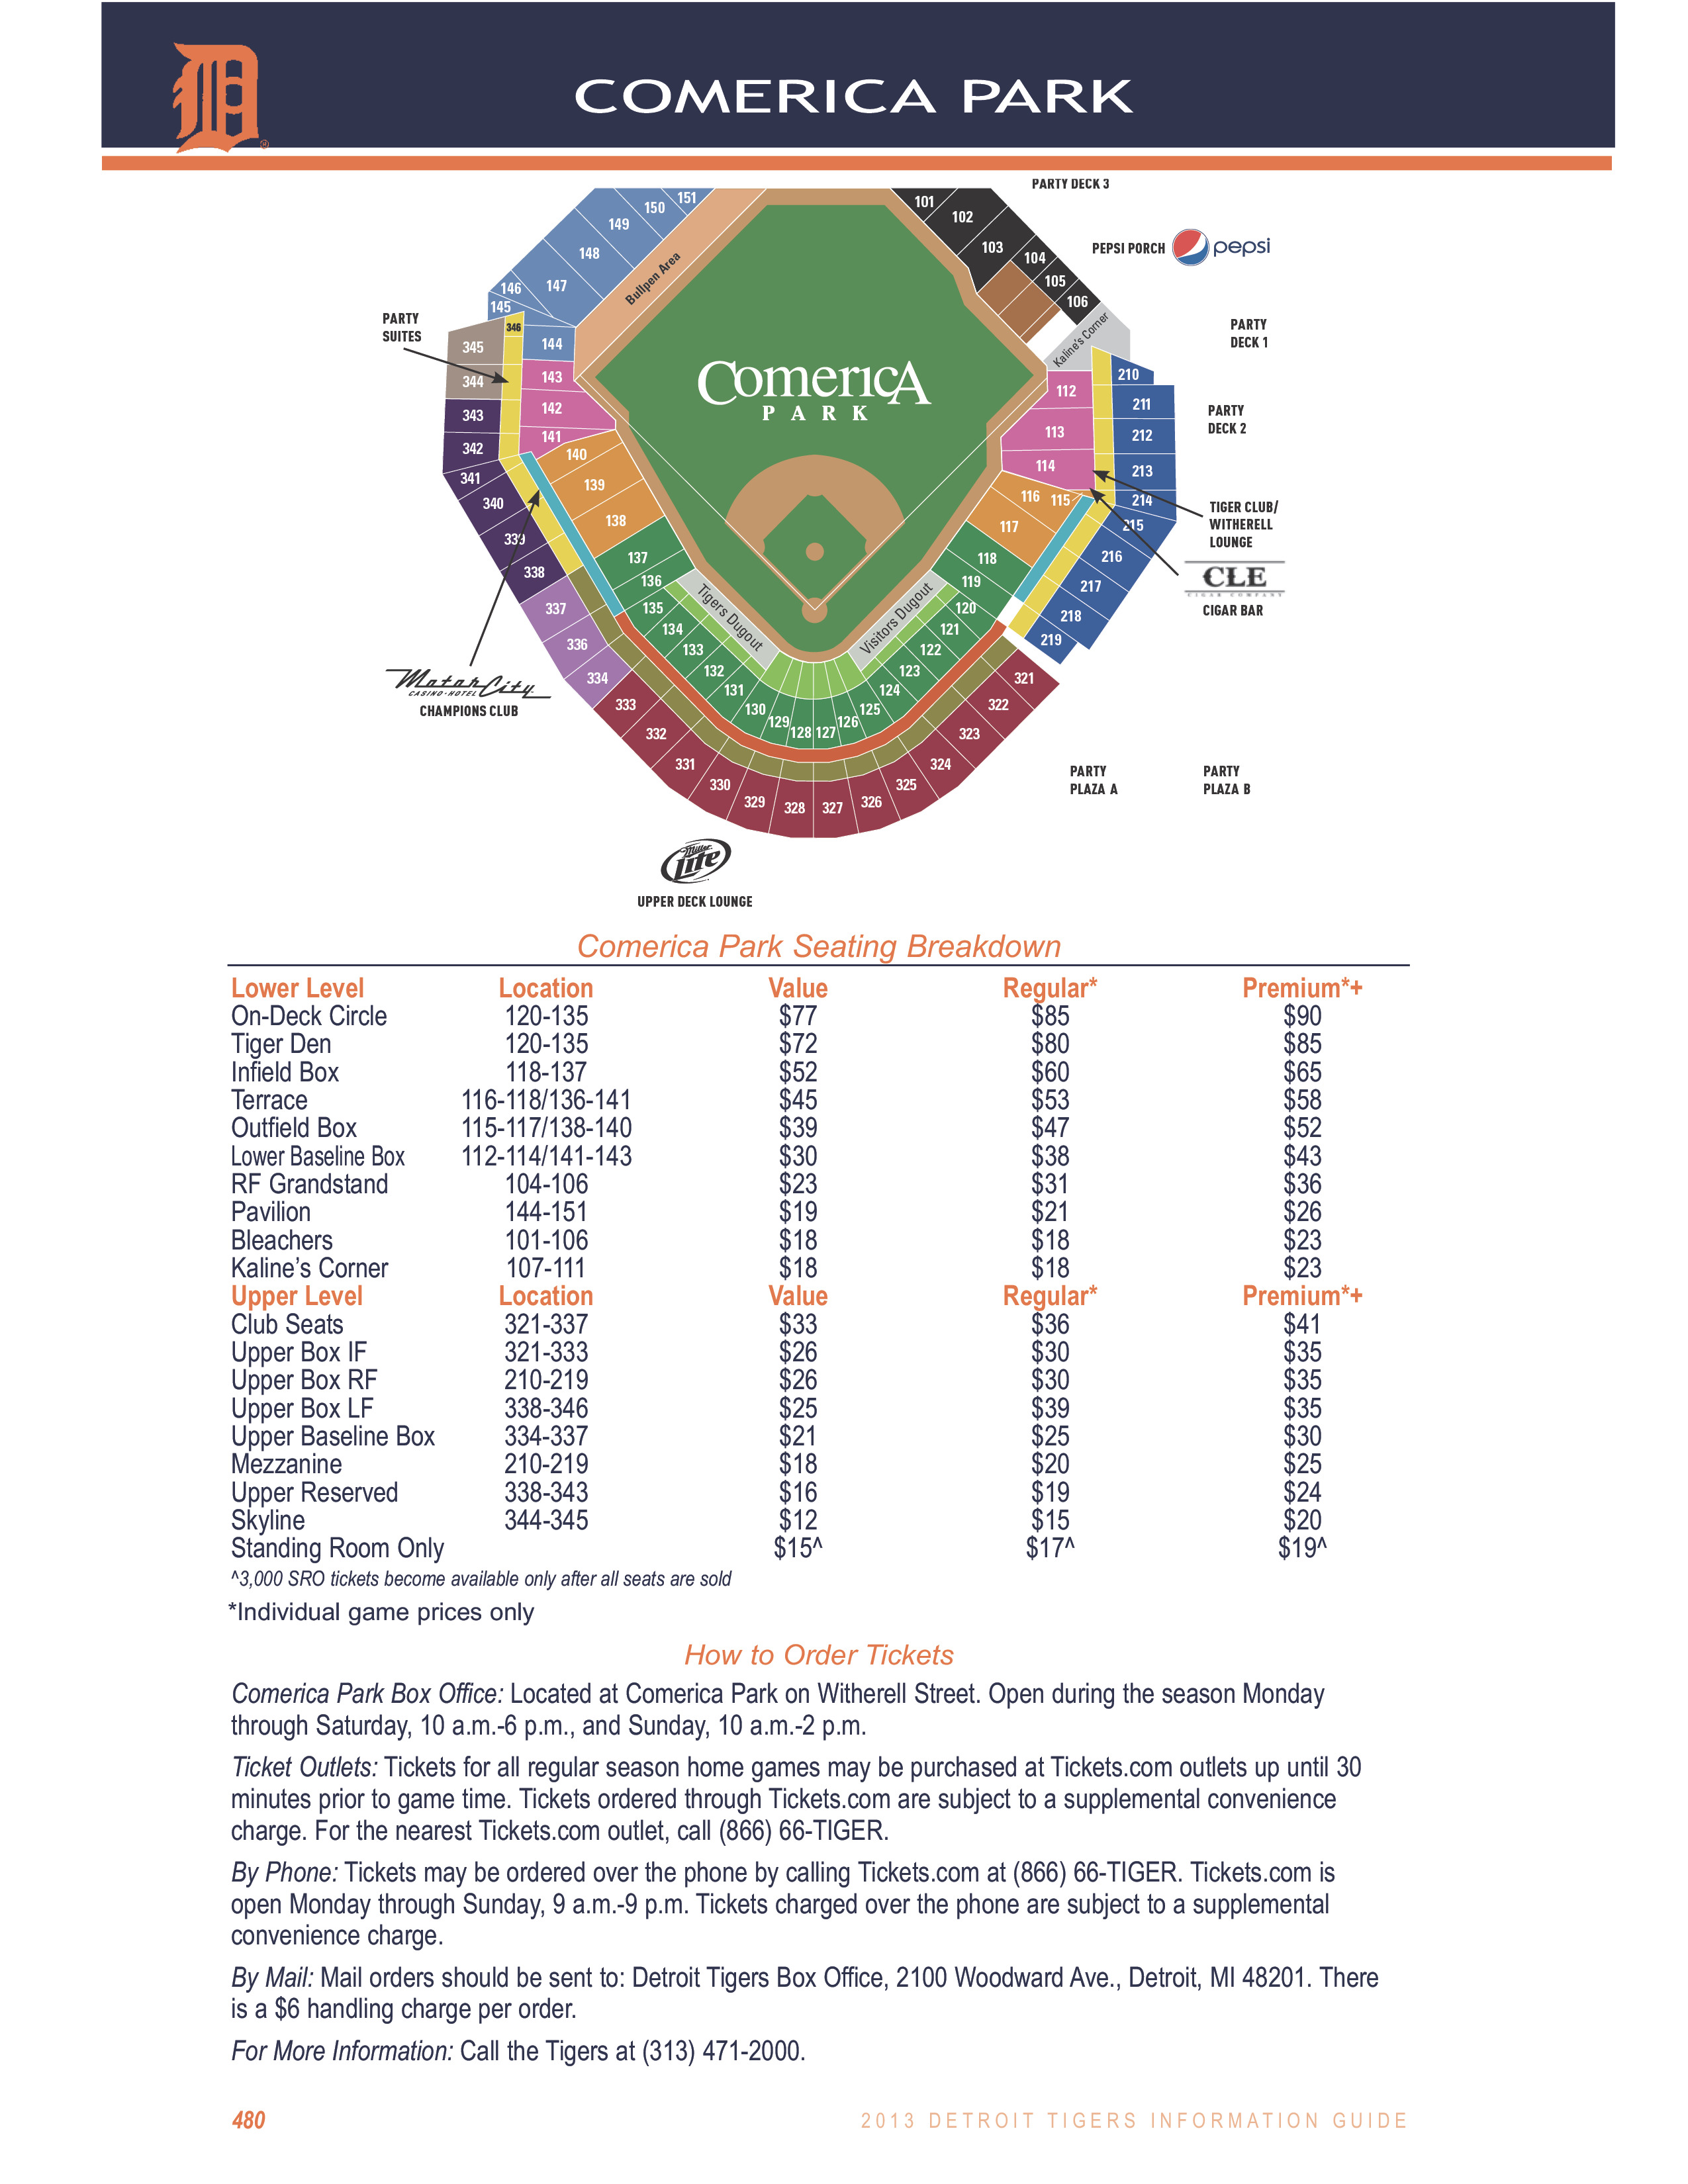figure: (399, 183, 1289, 879), (152, 37, 280, 163)
section: (566, 60, 1135, 129), (566, 922, 1073, 963), (679, 1634, 966, 1681)
table: (216, 966, 1372, 1601)
text: (232, 1688, 1388, 2085)
